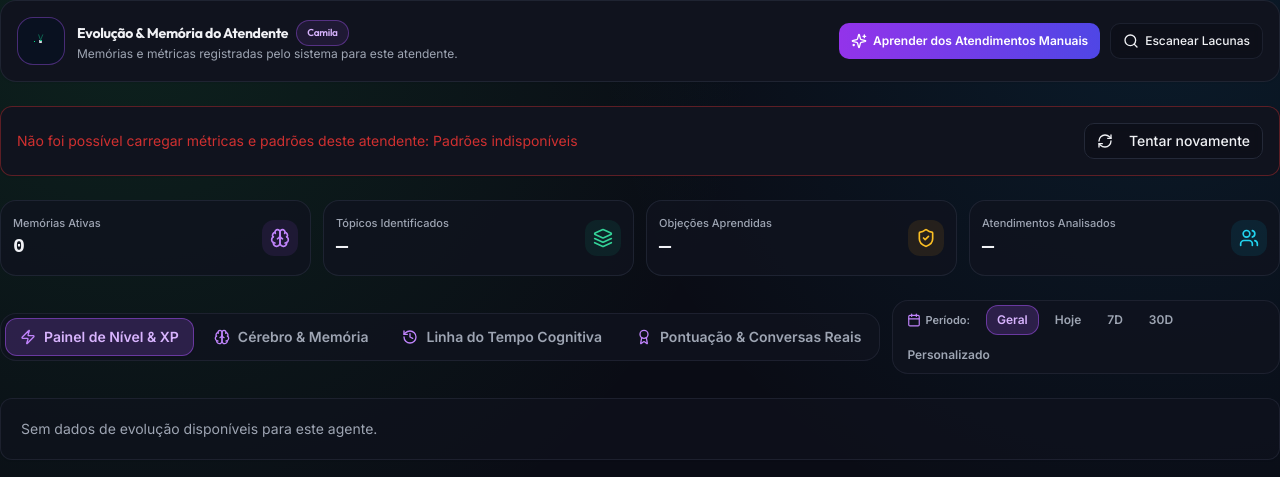
Test case: Contratos reais da operação de IA › distingue falha ao carregar padrões e permite tentar novamente
Click the button "Tentar novamente".
click(1173, 141)  # box x1=1084 y1=123 x2=1263 y2=159
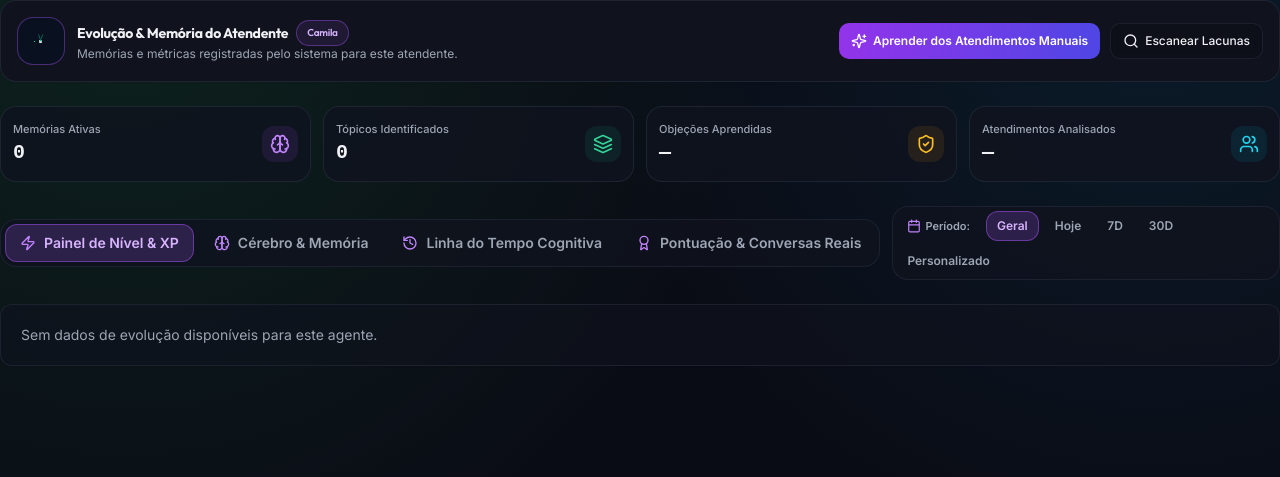
Now the text "Não foi possível carregar métricas e padrões deste atendente" is gone
